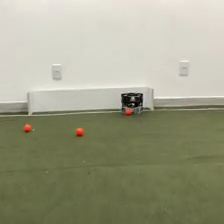ball: (22, 122, 31, 132), (75, 126, 84, 136), (125, 107, 132, 114)
goal: (25, 85, 155, 117)
robot: (119, 90, 146, 116)
